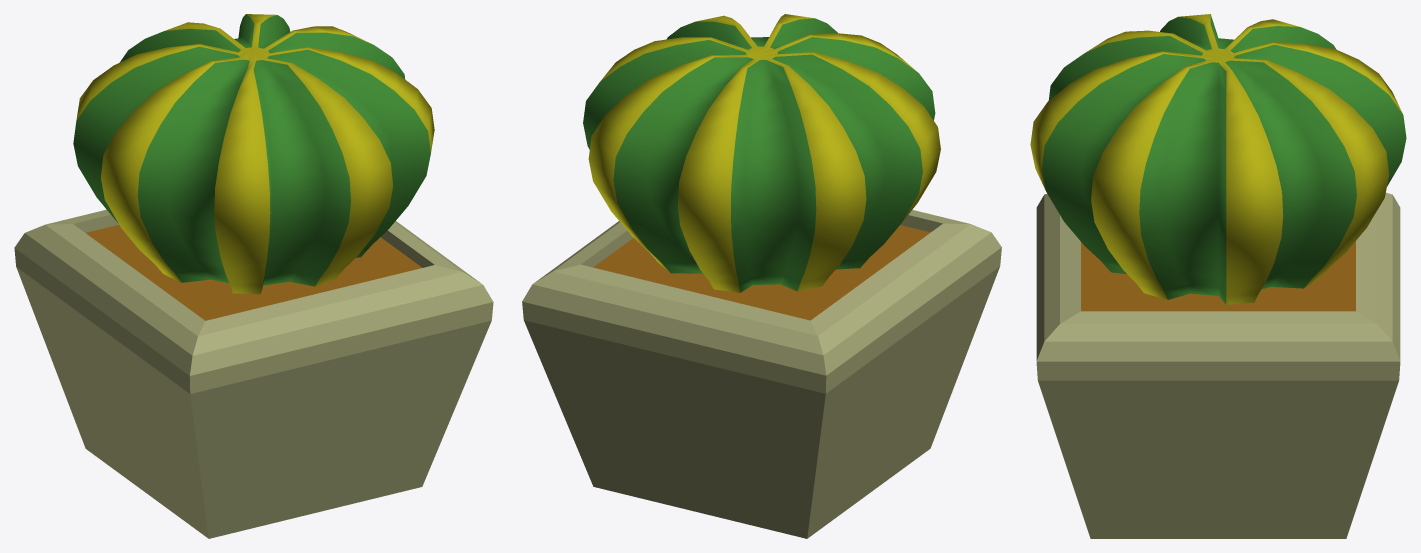
Rendered from CPI441_Fur_PlantO3_V2.fbx.
The picture shows the model from 3 angles, left to right: view 1: azimuth 30°, elevation 25°; view 2: azimuth 150°, elevation 25°; view 3: azimuth 270°, elevation 25°; orthographic projection. The views are drawn at different scales.
Visible parts, largest first — view 1: Cube; view 2: Cube; view 3: Cube.
Part boxes in pixels (<box>): Cube: <box>14,14,493,538</box>; Cube: <box>522,14,1001,538</box>; Cube: <box>1030,14,1406,538</box>.
Bounding box in the file's own units: 536 × 687 × 536.
